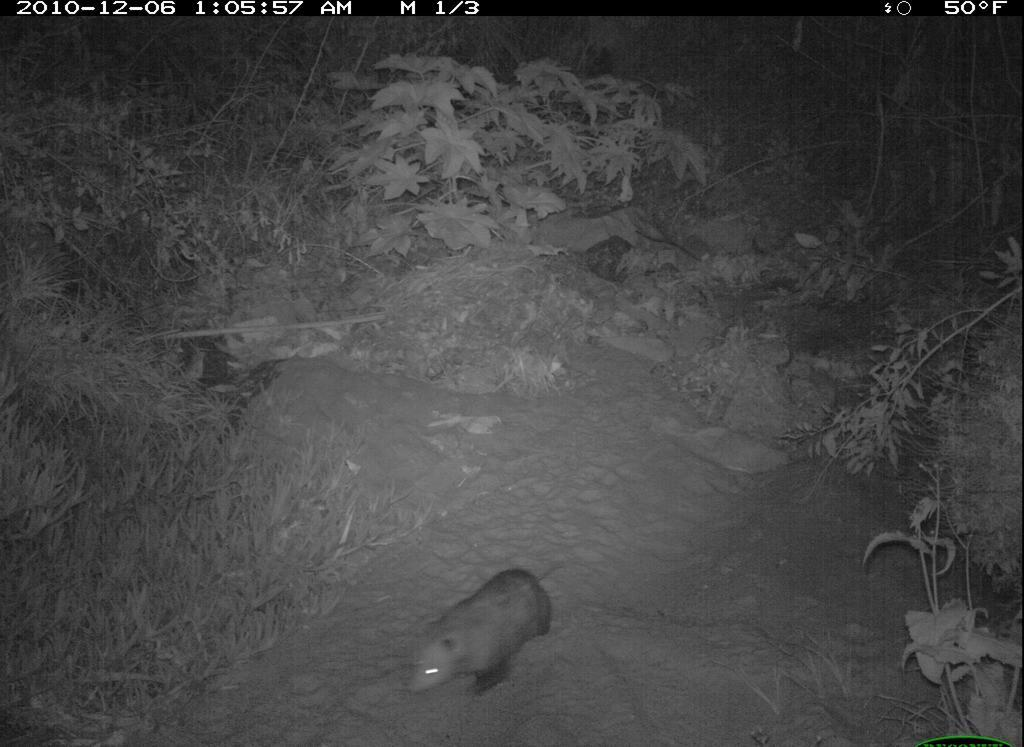opossum: (393, 545, 569, 706)
